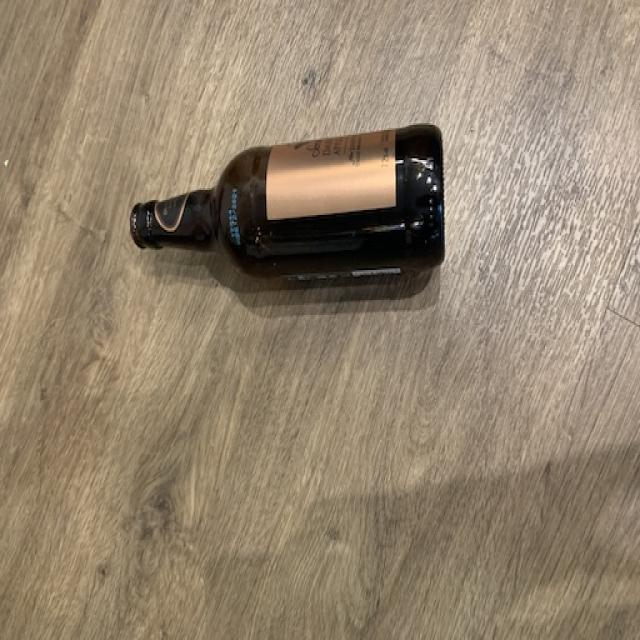litter: (124, 120, 451, 290)
